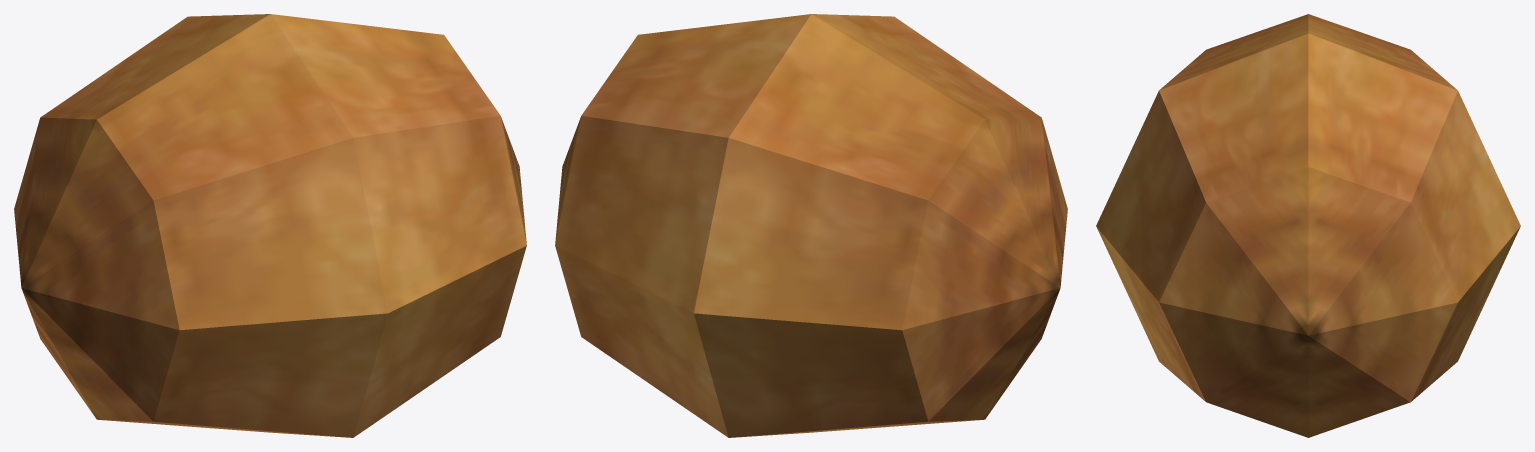
The model's file is C3SNFRUIT.obj.
3 views of the same model, side by side, from view 1: azimuth 30°, elevation 25°; view 2: azimuth 150°, elevation 25°; view 3: azimuth 270°, elevation 25° (orthographic). The views are drawn at different scales.
Parts seen in each view (by area): view 1: Node 0; view 2: Node 0; view 3: Node 0.
Boxes of the visible parts, x1,y1,x2,y2 form: Node 0: (14, 14, 526, 437); Node 0: (555, 14, 1067, 437); Node 0: (1096, 14, 1520, 437).
Bounding box in the file's own units: 0.66 × 0.53 × 0.54.
Materials: 1 (1 with a texture image).
